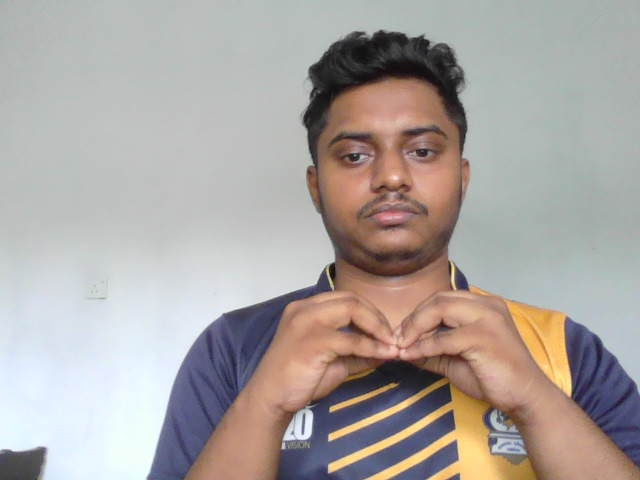More: (269, 287, 543, 423)
